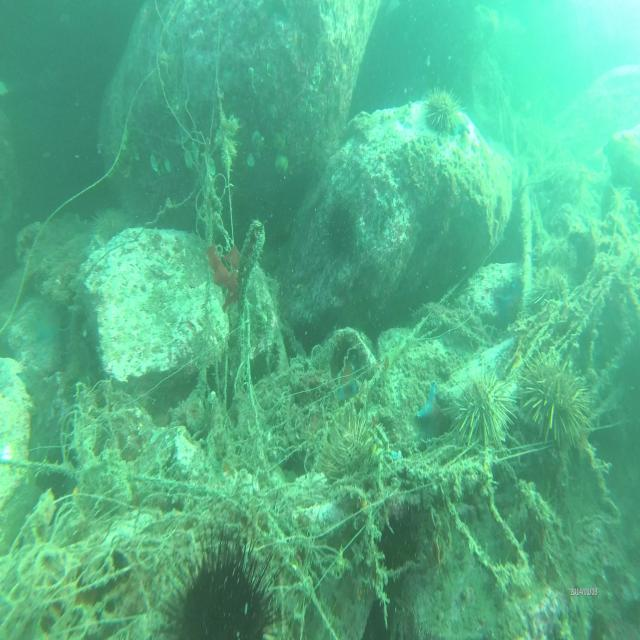echinus: (177, 532, 273, 640), (524, 351, 588, 448), (461, 367, 513, 453), (328, 422, 380, 486), (323, 197, 357, 255), (427, 86, 460, 134)
starfish: (418, 386, 452, 445), (334, 362, 361, 404)
